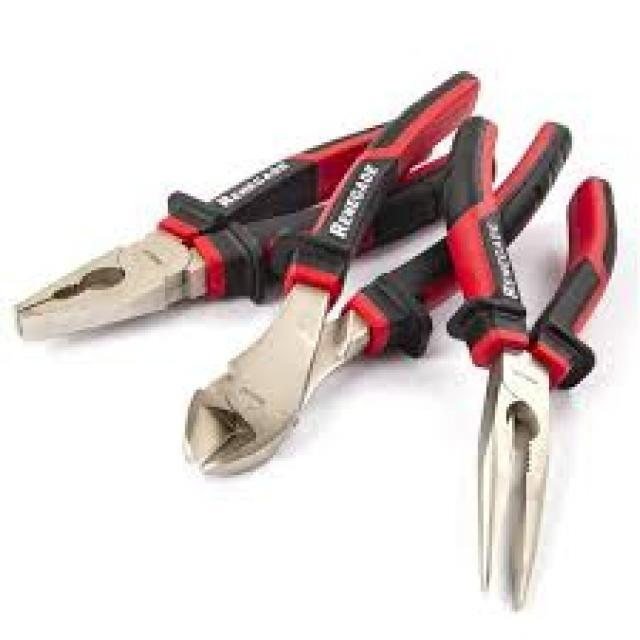pliers: (182, 91, 560, 485), (12, 111, 456, 346), (445, 120, 619, 600)
